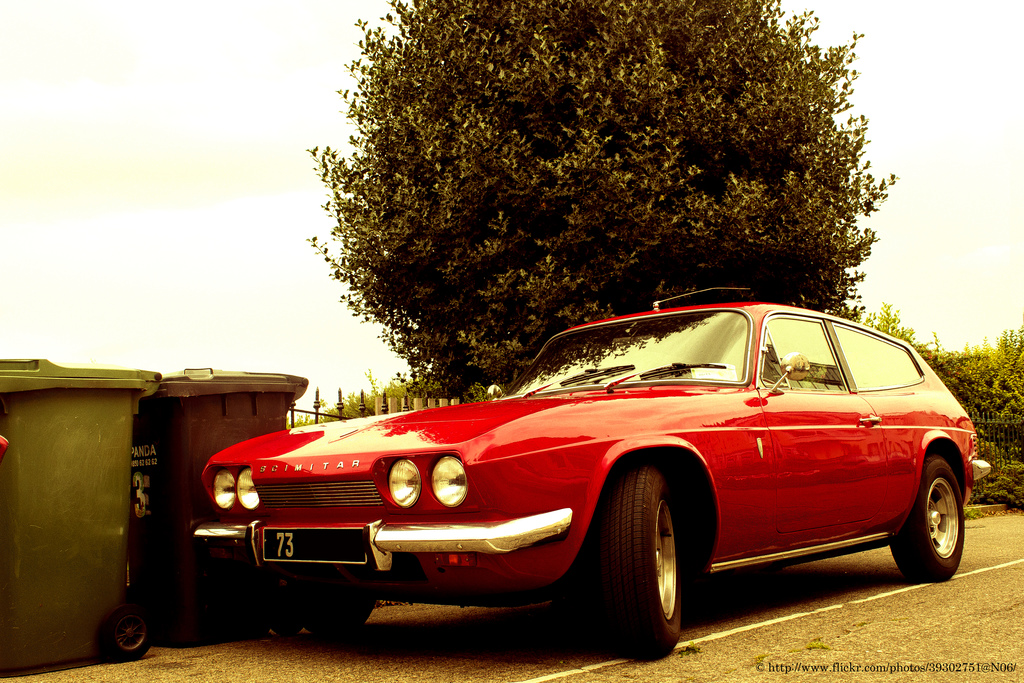Car: (179, 277, 990, 660)
